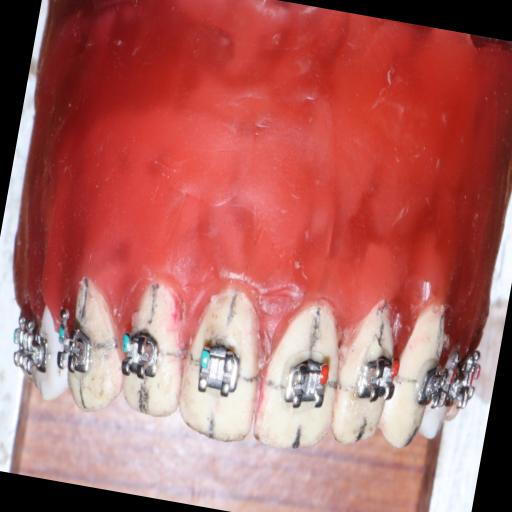correct_brace: (189, 335, 248, 404)
incorrect_brace: (277, 345, 338, 417)
